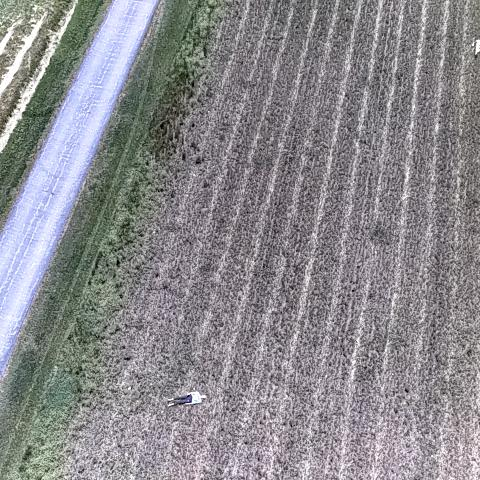person: (162, 389, 209, 410), (471, 35, 480, 58)
